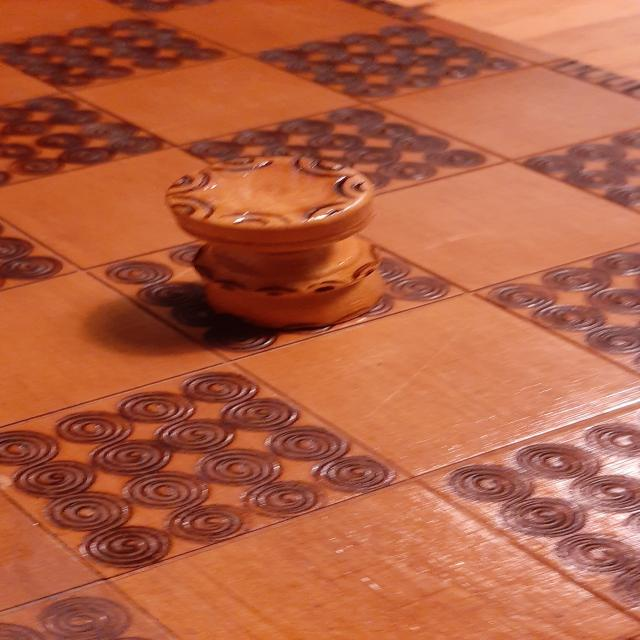white-rook: (165, 155, 388, 331)
